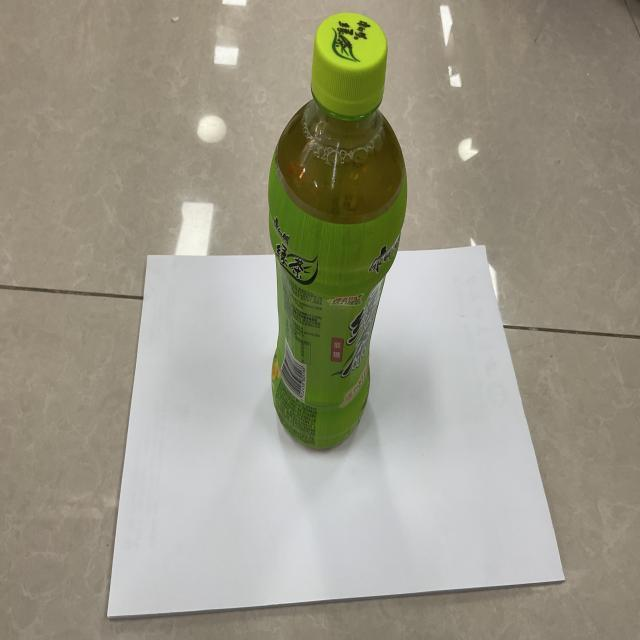chai: (269, 12, 406, 449)
